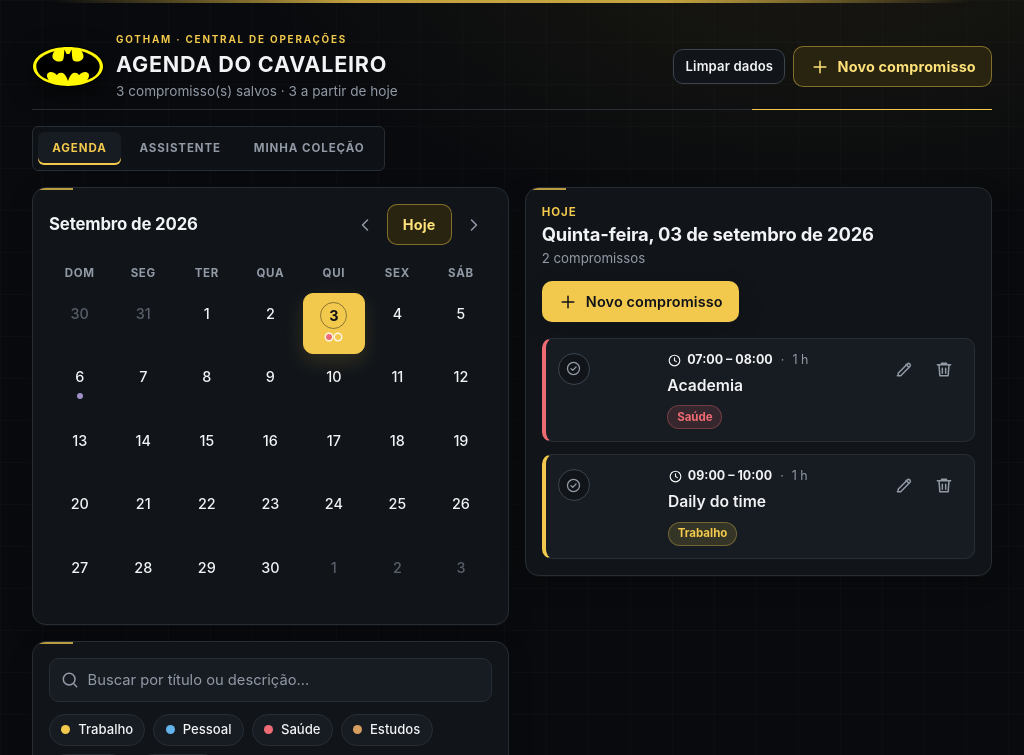
busca e filtros › mostra estado vazio quando a busca não encontra nada
The image size is (1024, 755).
Type "viagem para marte" into the search field named "buscar compromissos" at coordinates (270, 680), box 49,658 -> 492,702
(page scrolled)
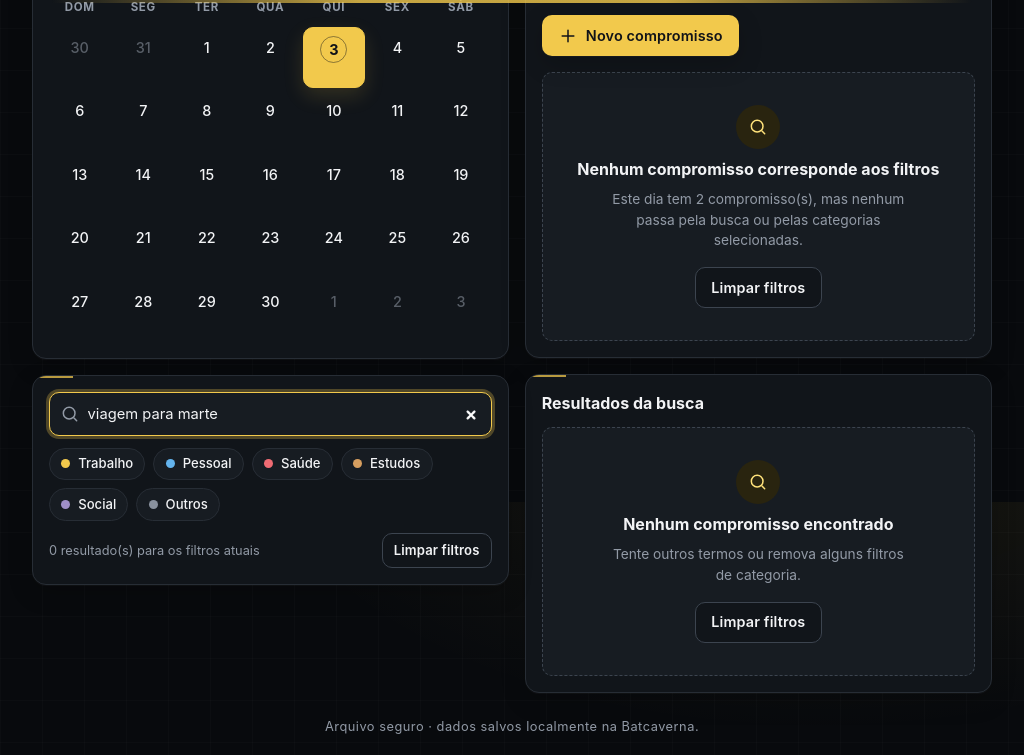
Expected: the text "Nenhum compromisso encontrado" is shown, 623,512 -> 894,536
